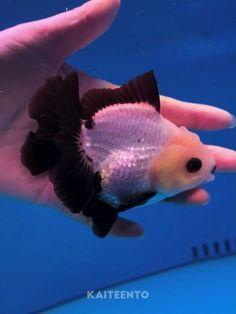goldfish: (19, 70, 221, 230)
